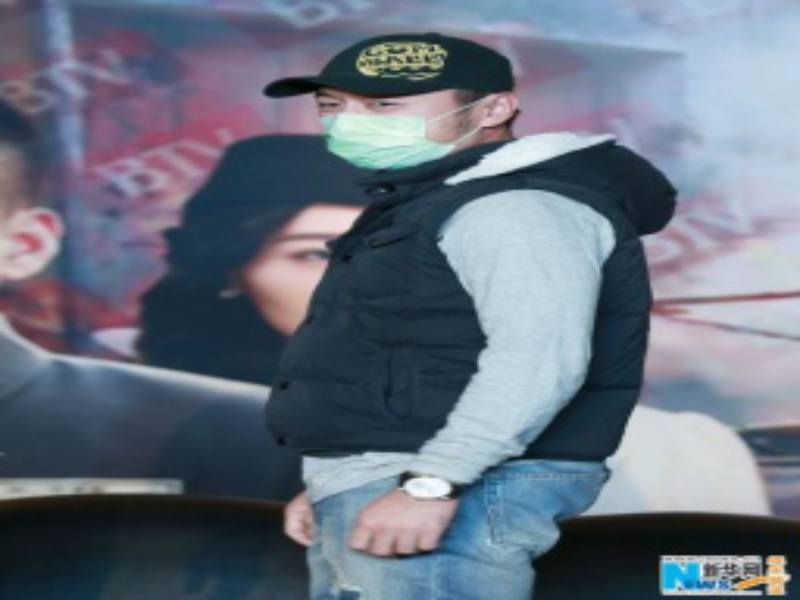ManaoArotava: (294, 28, 524, 180)
